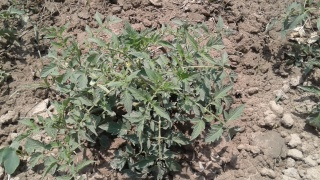tomato plant: (51, 37, 211, 165)
